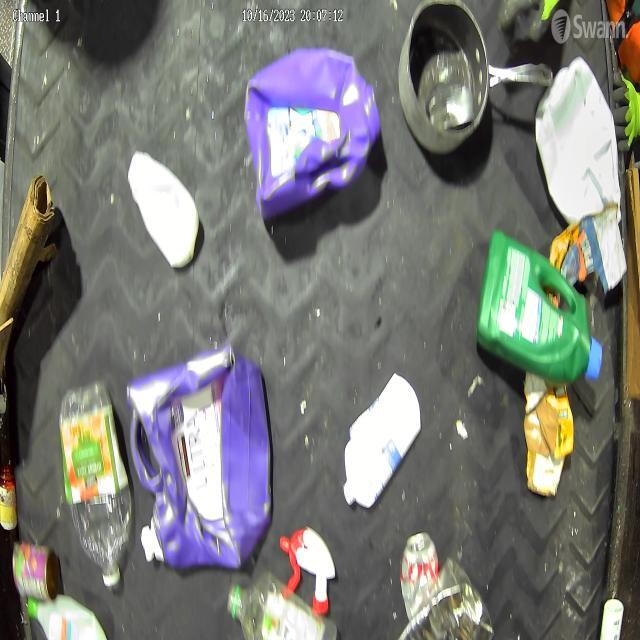can: (400, 528, 440, 625), (11, 542, 61, 601)
milk_jug: (534, 55, 624, 225), (27, 593, 107, 640)
non_white_jug: (125, 346, 274, 572), (244, 48, 382, 222), (476, 227, 604, 384)
plastic_bottle: (58, 376, 134, 588), (226, 571, 339, 640)
